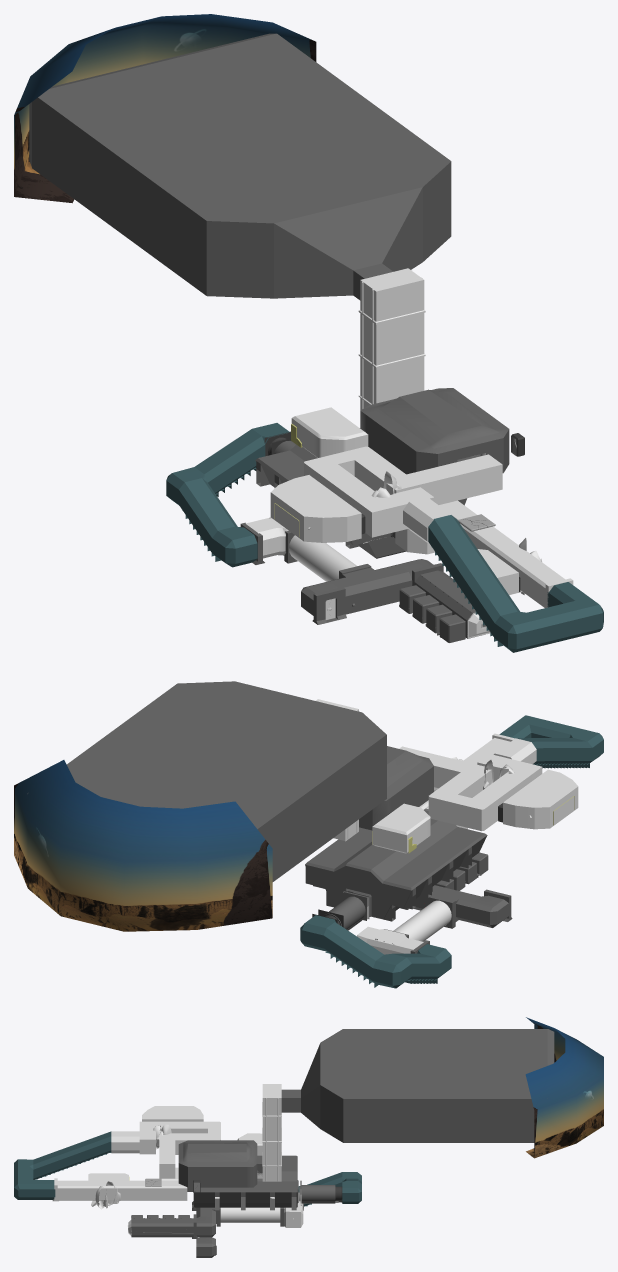
File: LevelTest.fbx
The picture shows the model from 3 angles, top to bottom: view 1: azimuth 30°, elevation 25°; view 2: azimuth 150°, elevation 25°; view 3: azimuth 270°, elevation 25°; orthographic projection. The views are drawn at different scales.
Parts seen in each view (by area): view 1: Hangar, Landscape, BigRoom_v2, ElevatorWell, pCube82, polySurface49, polySurface38, Corridor, pCube77, polySurface41, LvL1_Colapsed_hall_FirstFloor_Corridor_FrontStairs, BigPrisonBlock (+12 smaller); view 2: Hangar, Landscape, BigPrisonBlock, polySurface41, pCube82, BigRoom_v2, pCube77, FrontStairs_upper, Corridor_w_Lasers, polySurface49, Armory, Connections_1_FrontStairs (+14 smaller); view 3: Hangar, Landscape, BigRoom_v2, BigPrisonBlock, Corridor, ElevatorWell, polySurface49, Corridor_w_Lasers, pCube82, FrontStairs_Lower2, FrontStairs_Lower1, polySurface41 (+10 smaller).
Part boxes in pixels (box(x1,y1,x2,y2)): Hangar: box(29, 33, 451, 300); Landscape: box(14, 14, 316, 203); BigRoom_v2: box(360, 388, 509, 474); ElevatorWell: box(358, 268, 425, 410); pCube82: box(270, 475, 361, 542); polySurface49: box(527, 582, 603, 646); polySurface38: box(406, 454, 502, 504); Corridor: box(439, 500, 565, 607); pCube77: box(291, 407, 368, 457); polySurface41: box(304, 446, 420, 494); LvL1_Colapsed_hall_FirstFloor_Corridor_FrontStairs: box(328, 564, 412, 614); BigPrisonBlock: box(255, 444, 466, 558); Hangar: box(27, 681, 386, 881); Landscape: box(14, 760, 272, 931); BigPrisonBlock: box(305, 810, 487, 921); polySurface41: box(428, 762, 508, 831); pCube82: box(503, 769, 578, 829); BigRoom_v2: box(359, 746, 433, 830); pCube77: box(372, 803, 430, 853); FrontStairs_upper: box(323, 922, 383, 987); Corridor_w_Lasers: box(393, 900, 451, 941); polySurface49: box(499, 715, 578, 738); Armory: box(357, 926, 423, 954); Connections_1_FrontStairs: box(373, 954, 411, 988); Hangar: box(288, 1029, 554, 1142); Landscape: box(525, 1017, 603, 1158); BigRoom_v2: box(178, 1140, 257, 1187); BigPrisonBlock: box(193, 1155, 298, 1210); Corridor: box(57, 1180, 187, 1200); ElevatorWell: box(257, 1084, 281, 1181); polySurface49: box(14, 1166, 55, 1199); Corridor_w_Lasers: box(220, 1207, 280, 1222); pCube82: box(142, 1106, 203, 1121); FrontStairs_Lower2: box(72, 1131, 111, 1166); FrontStairs_Lower1: box(33, 1145, 72, 1179); polySurface41: box(159, 1121, 220, 1154).
Size of the model in its own units: 70.12 by 67.86 by 182.
